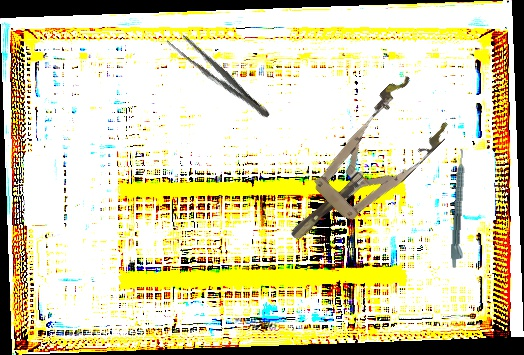Dressing Forceps: (163, 28, 276, 124)
Handpiece: (449, 148, 472, 269)
Speculum: (264, 70, 459, 265)
